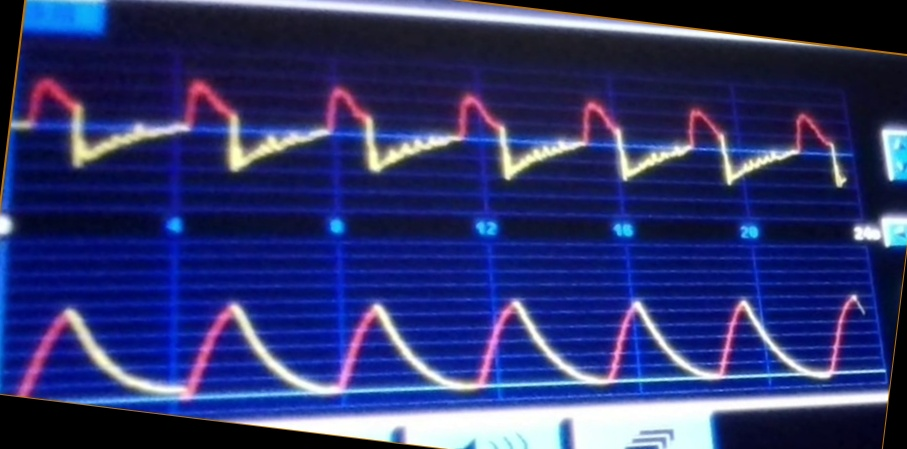Accumulation Flow: (22, 66, 852, 200)
Volume: (19, 286, 868, 403)
